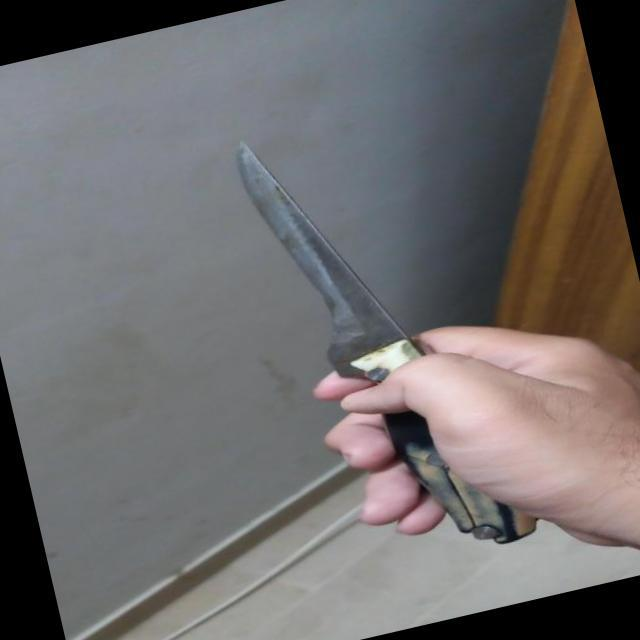Knife: (184, 62, 556, 471)
